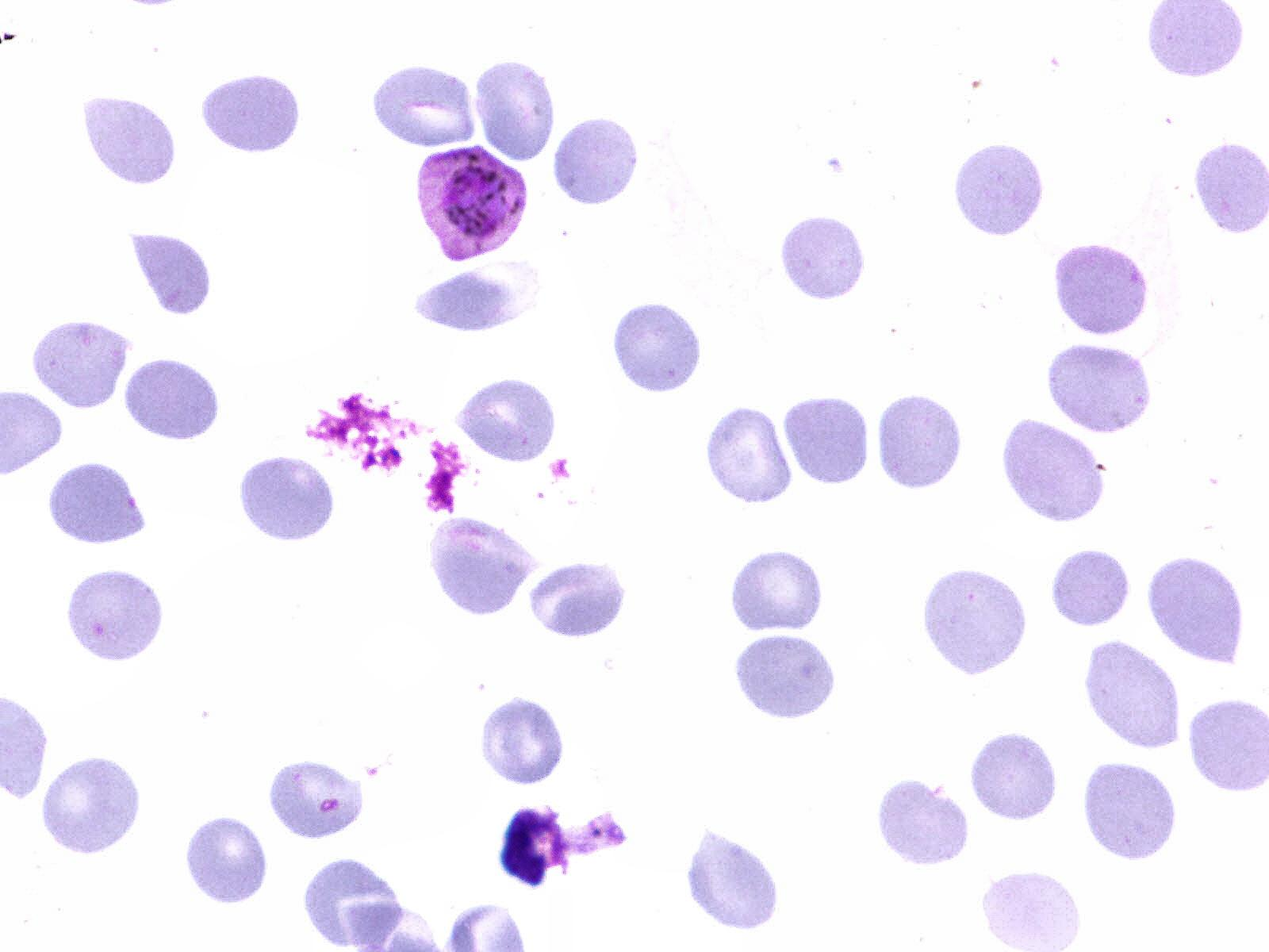Infected: (420, 150, 526, 263)
Uninfected: (918, 564, 1024, 680), (427, 514, 539, 614), (1148, 551, 1246, 664), (1003, 417, 1106, 523), (40, 753, 143, 856), (1079, 757, 1179, 863), (1046, 340, 1154, 435), (64, 565, 165, 665), (1052, 237, 1150, 337), (31, 314, 132, 411), (953, 134, 1045, 240), (1087, 642, 1179, 747), (450, 378, 562, 464), (238, 451, 338, 544), (689, 829, 782, 929), (83, 90, 178, 187), (49, 458, 147, 550), (734, 630, 832, 721), (966, 733, 1062, 825), (182, 812, 273, 908), (873, 391, 961, 490), (784, 390, 872, 489), (197, 73, 302, 155), (474, 58, 555, 164), (124, 353, 220, 441), (706, 405, 792, 503), (369, 67, 474, 147), (872, 778, 967, 866), (613, 304, 702, 397), (730, 547, 826, 633), (306, 858, 396, 948), (528, 559, 627, 639), (271, 759, 368, 839), (774, 218, 864, 303), (553, 119, 640, 205), (480, 697, 565, 785), (1051, 545, 1131, 628), (132, 233, 211, 313), (414, 273, 518, 331)
